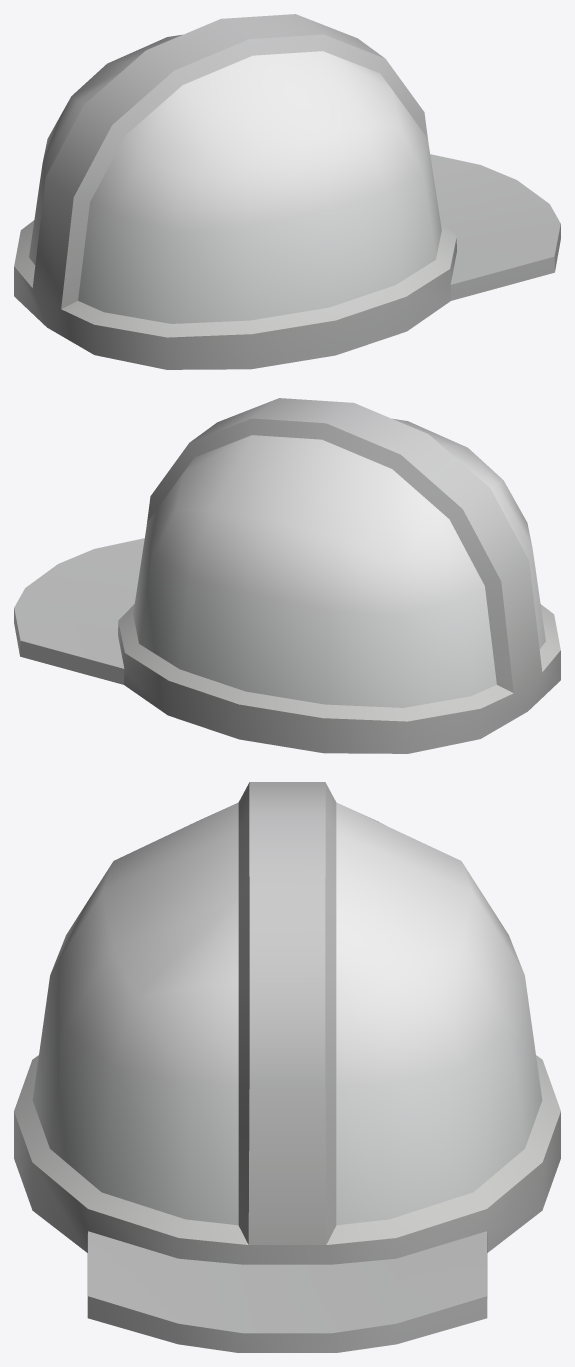
File: Helmet_1_2.glb
The picture shows the model from 3 angles, top to bottom: view 1: azimuth 30°, elevation 25°; view 2: azimuth 150°, elevation 25°; view 3: azimuth 270°, elevation 25°; orthographic projection. The views are drawn at different scales.
Visible parts, largest first — view 1: Helmet_1_2; view 2: Helmet_1_2; view 3: Helmet_1_2.
Part boxes in pixels (box(x1,y1,x2,y2)): Helmet_1_2: box(14, 14, 560, 369); Helmet_1_2: box(14, 398, 560, 753); Helmet_1_2: box(14, 782, 560, 1352).
Size of the model in its own units: 0.7135 by 0.3546 by 0.5102.
Materials: 1 (1 with a texture image).
